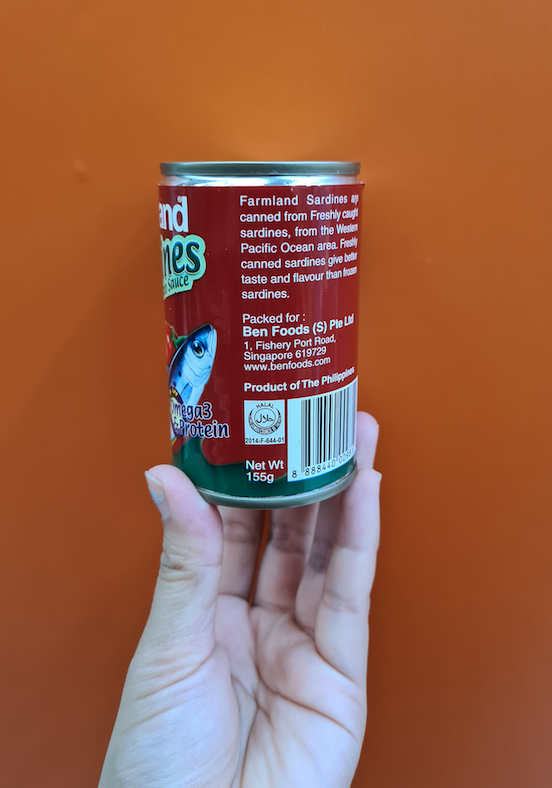Canned_Sardines_and_Mackerel: (164, 173, 357, 484)
